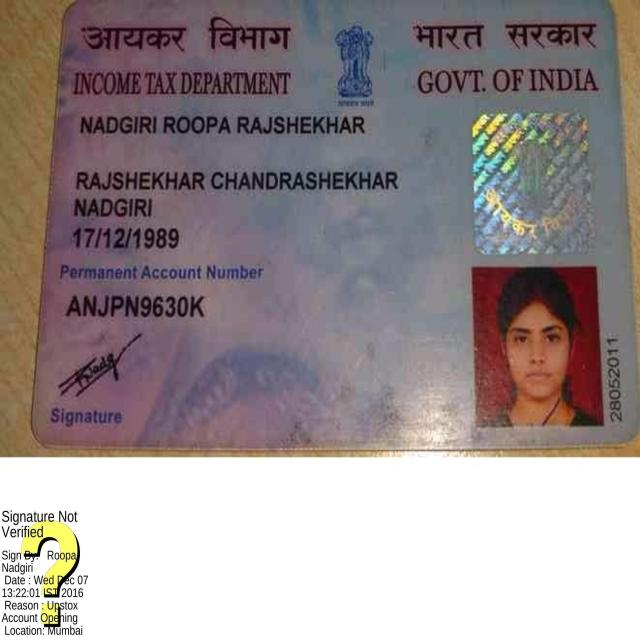pan_card: (37, 1, 632, 441)
